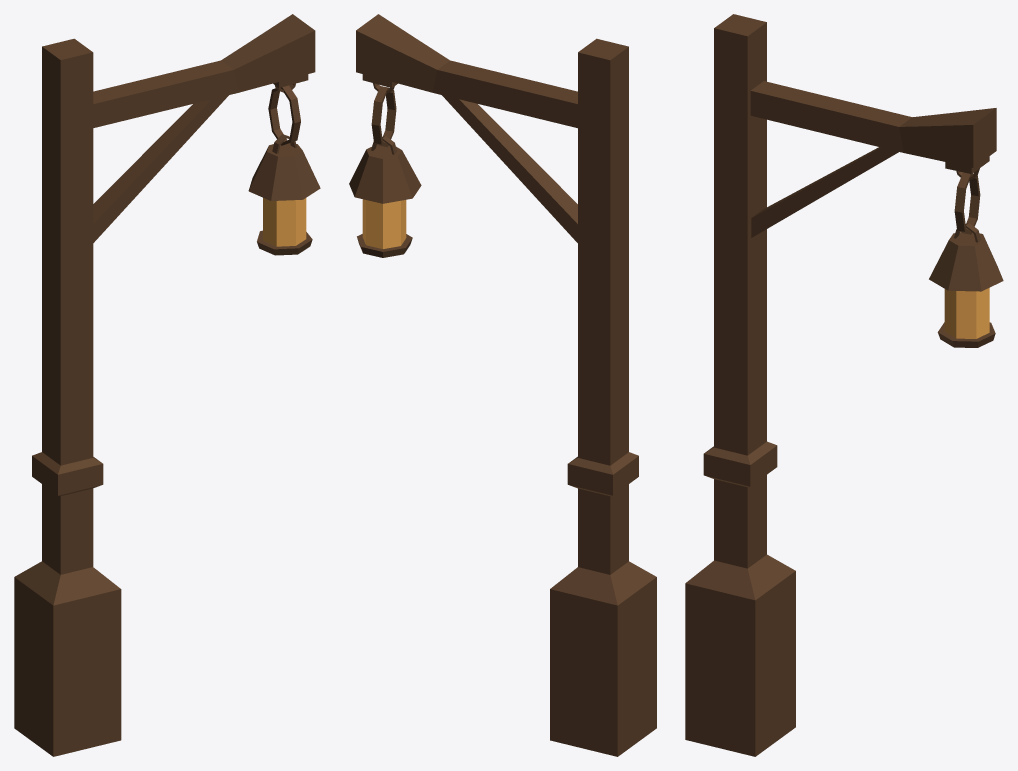
File: lanternPost-compressed.glb
3 views of the same model, side by side, from view 1: azimuth 30°, elevation 25°; view 2: azimuth 150°, elevation 25°; view 3: azimuth 330°, elevation 25° (orthographic). The views are drawn at different scales.
Visible parts, largest first — view 1: lanternPost; view 2: lanternPost; view 3: lanternPost.
Part boxes in pixels (<box>): lanternPost: <box>14,14,320,756</box>; lanternPost: <box>349,14,656,756</box>; lanternPost: <box>685,14,1003,756</box>.
Bounding box in the file's own units: 0.863 × 2 × 0.2071.
